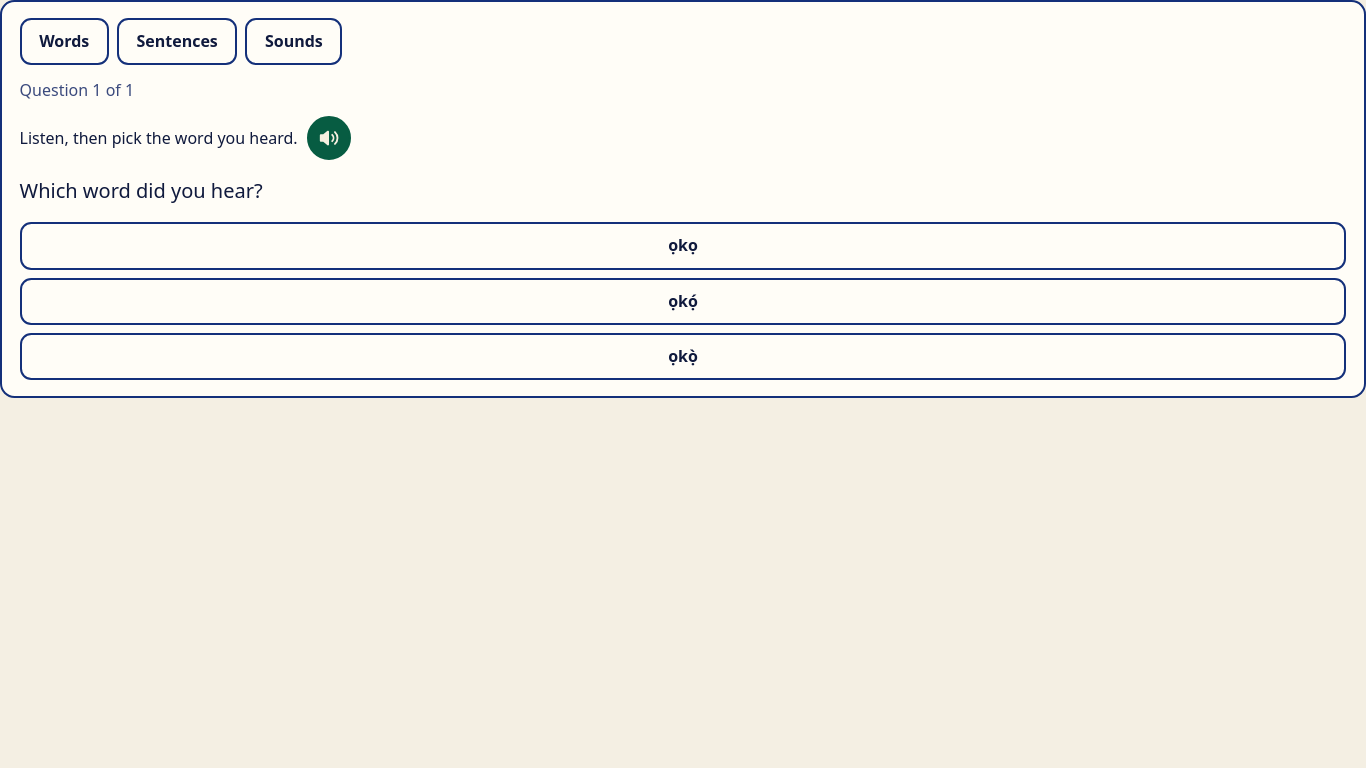
Test: TonePractice › adds a Listen button for the chosen word after a wrong answer, so the two can be compared
The width and height of the screenshot is (1366, 768).
Later steps or results of the test are not shown.
Step 1. Click the button with test id "choice" showing "ọkọ" → coordinates (683, 246), box [20,222,1346,270]
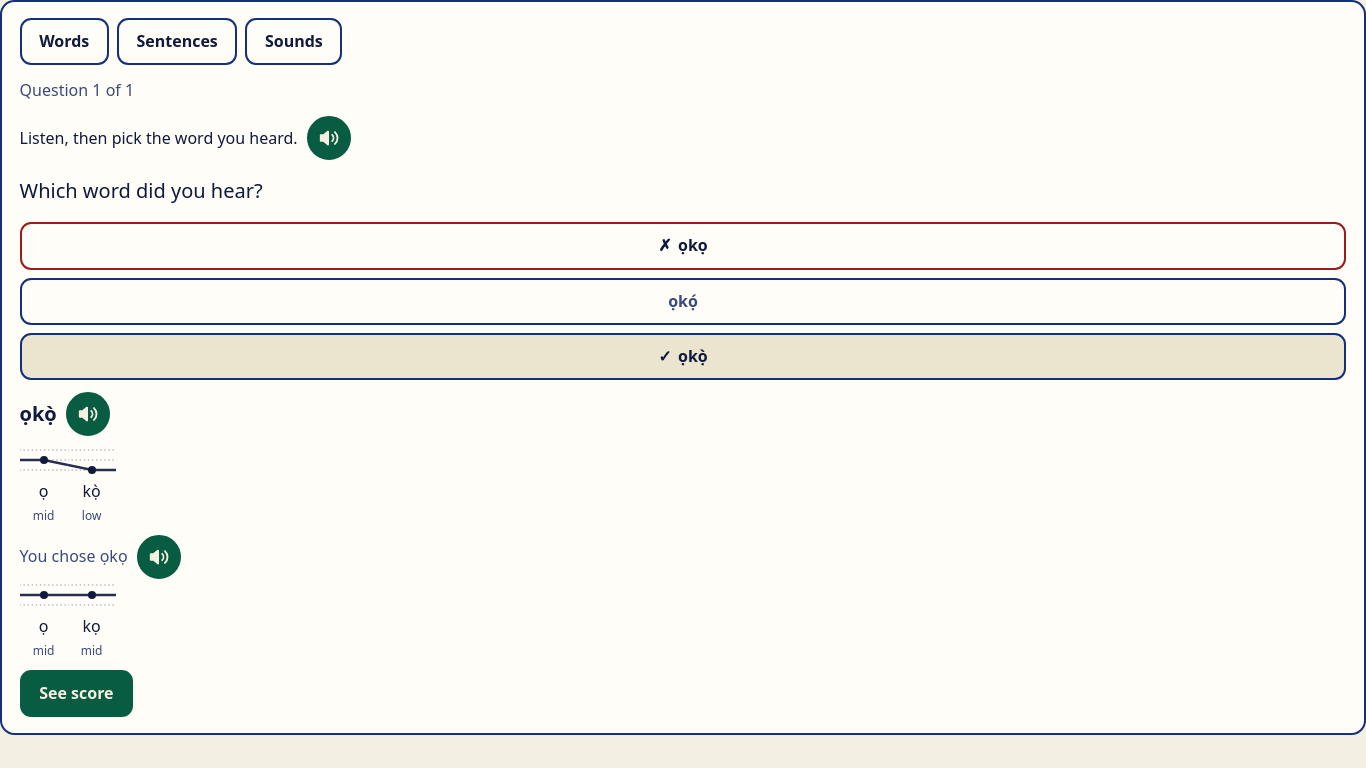
Check: the text "You chose ọkọ" is shown, box [20,543,128,570]
